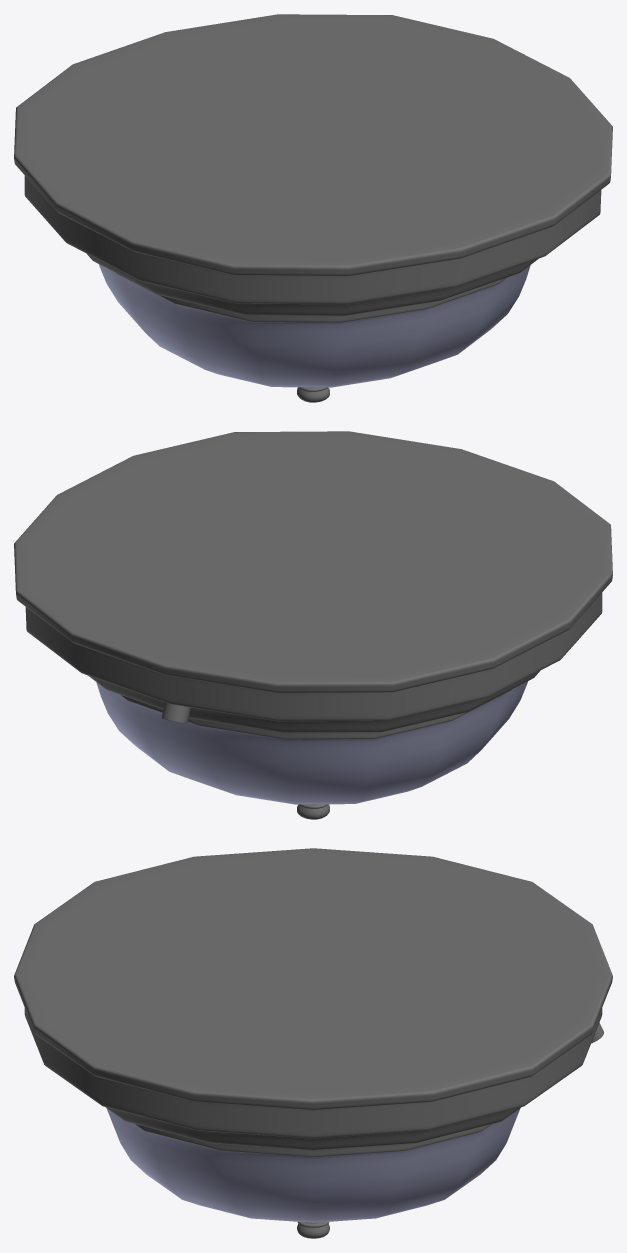
File: HangingLight.fbx
3 views of the same model, one above another, from view 1: azimuth 30°, elevation 25°; view 2: azimuth 150°, elevation 25°; view 3: azimuth 270°, elevation 25° (orthographic).
Visible parts, largest first — view 1: pCube312; view 2: pCube312; view 3: pCube312.
Part boxes in pixels (left/top/right/bottom): pCube312: left=14, top=14, right=612, bottom=402; pCube312: left=14, top=431, right=612, bottom=819; pCube312: left=14, top=848, right=612, bottom=1238.
Bounding box in the file's own units: 150 × 72.21 × 150.
